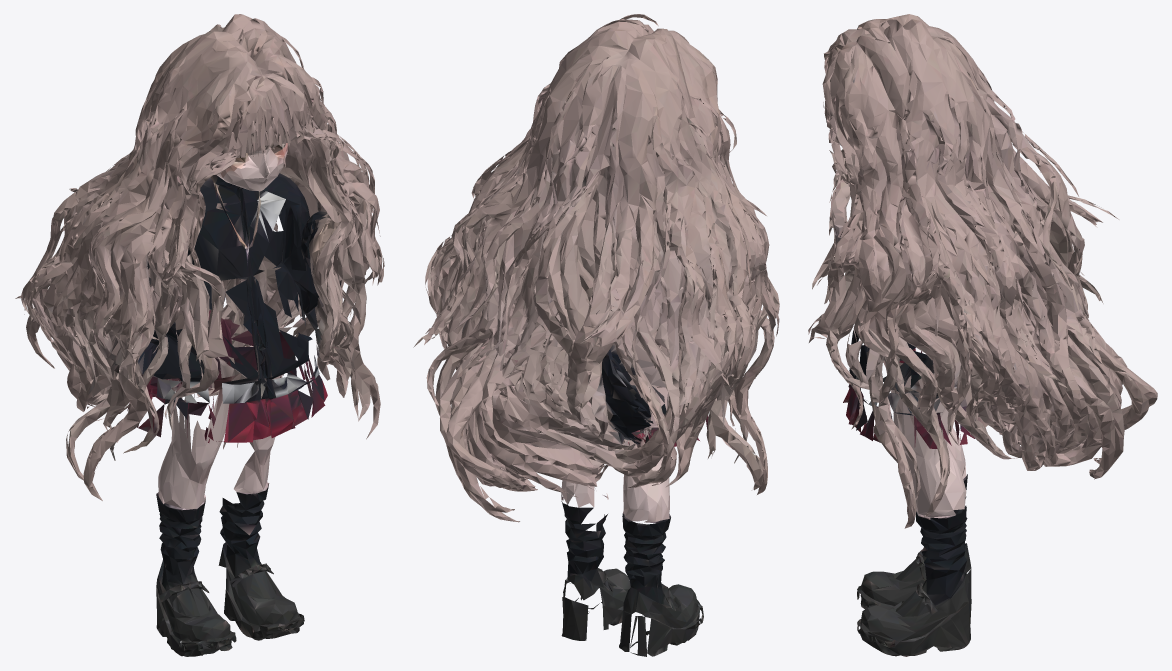
File: hero_girl.glb
3 renders of one model, left to right at view 1: azimuth 30°, elevation 25°; view 2: azimuth 150°, elevation 25°; view 3: azimuth 270°, elevation 25°, orthographic. The views are drawn at different scales.
Size of the model in its own units: 0.567 by 1 by 0.5129.
Materials: 1 (1 with a texture image).
